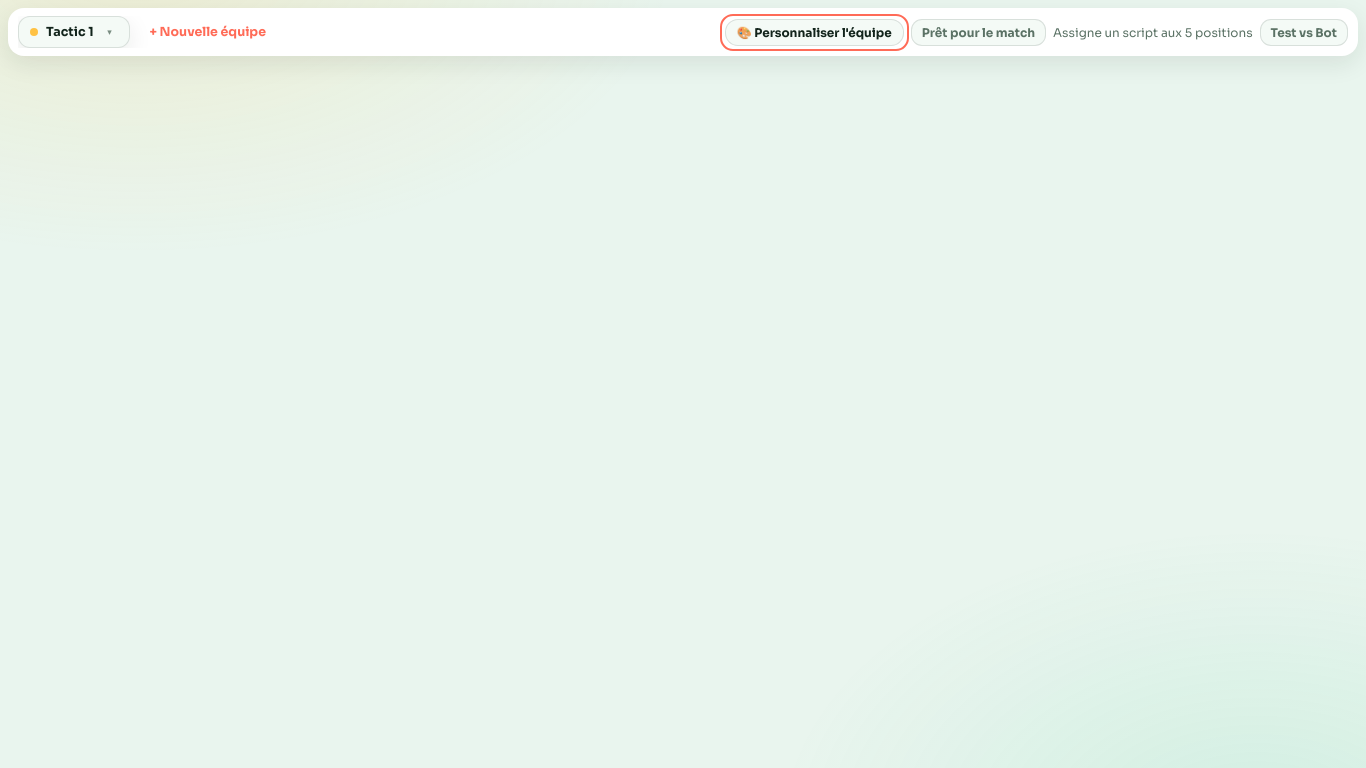
Scenario: Teambar Component › should delete the last tactic and let the store recreate a default one
This screenshot has width=1366, height=768.
Click the button with test id "team-caret". click: (110, 32)
box: [102,24,118,40]
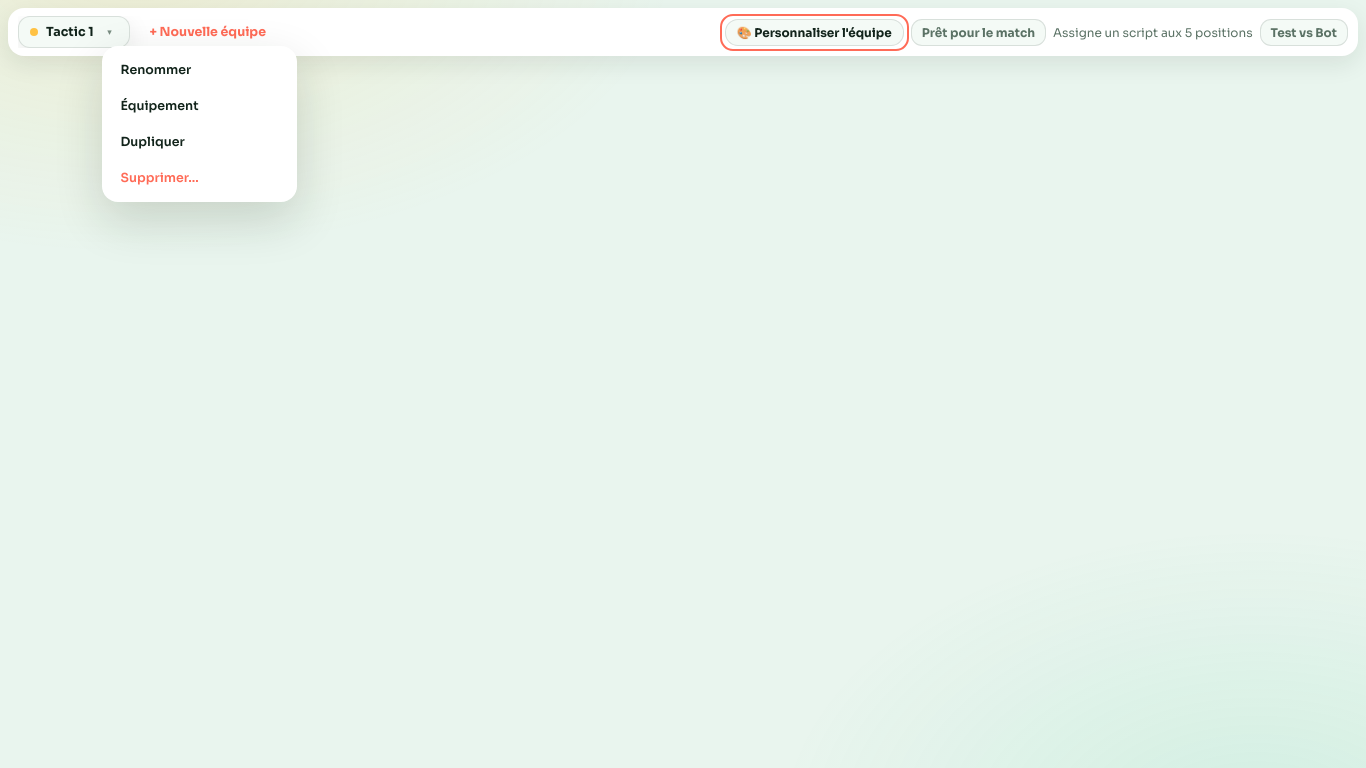
Now the element with test id "team-menu" is shown, box [102,46,296,202]
Click the button with test id "team-delete". click: (199, 178)
box: [108,161,290,195]
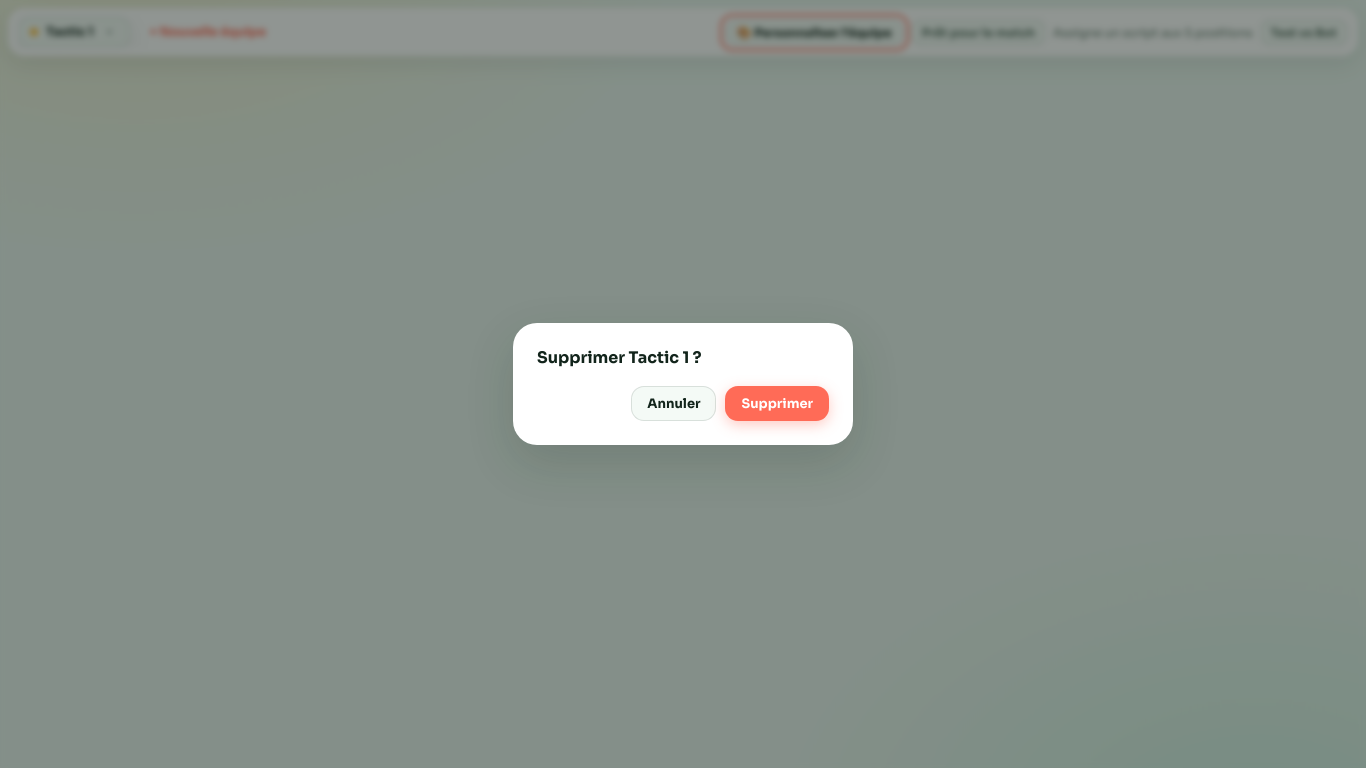
Click the button with test id "delete-tactic-confirm-button". click: (777, 404)
box: [726,386,829,421]
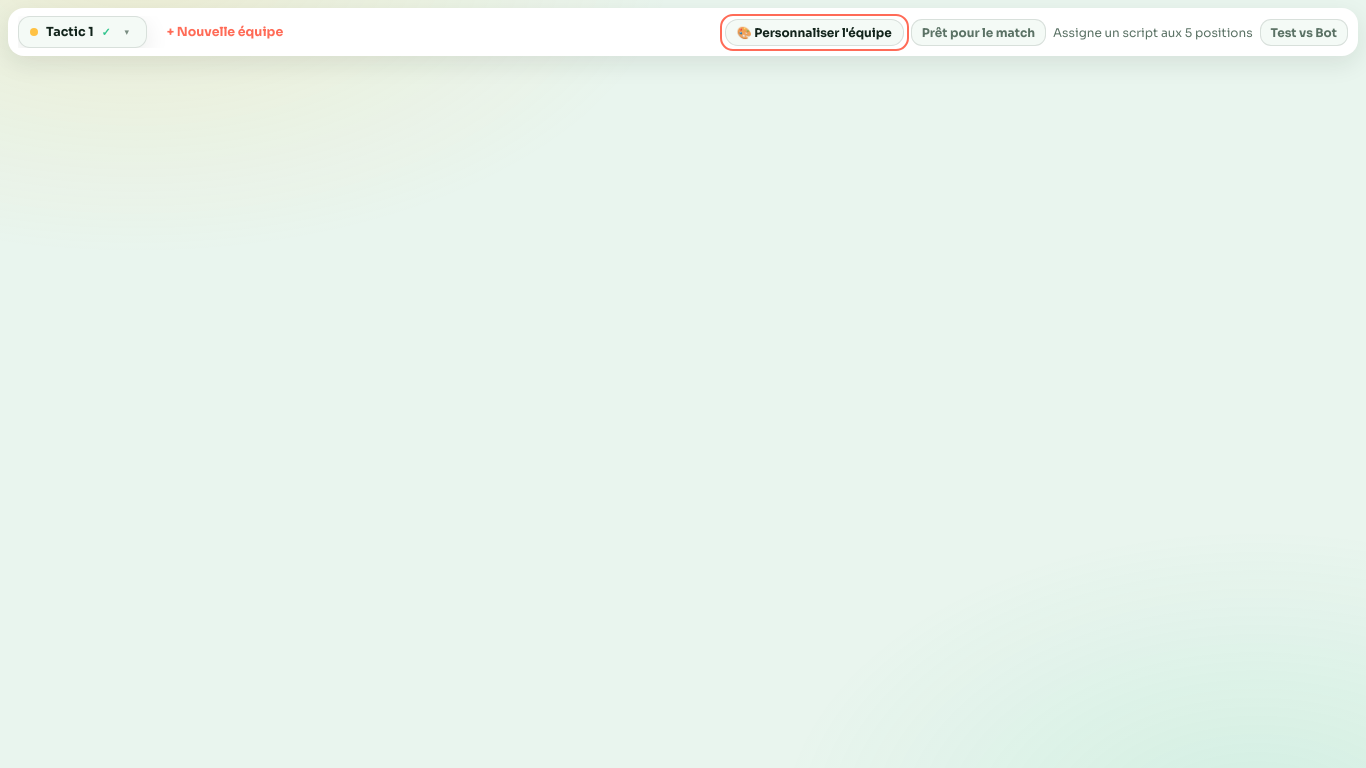
Expected: the text "Tactic 1" is shown, [46,24,94,40]
Now the element with test id "delete-tactic-confirm-dialog" is gone
